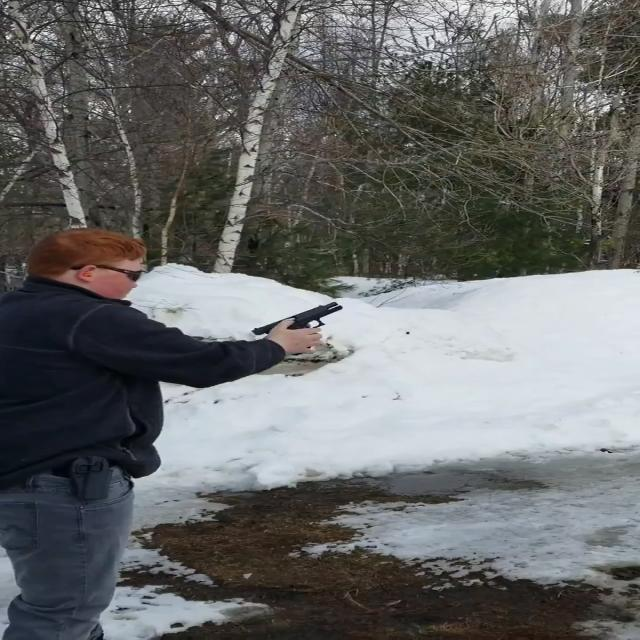Handgun: (251, 298, 353, 360)
